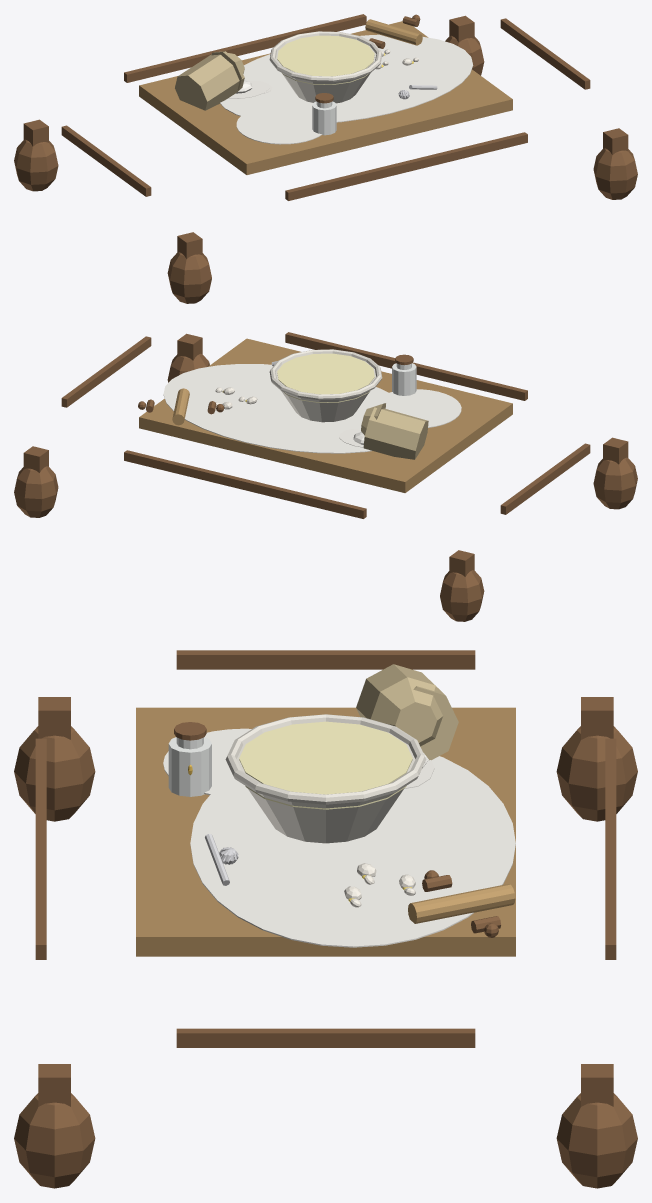
File: gen_1772903136231.glb
3 renders of one model, top to bottom at view 1: azimuth 30°, elevation 25°; view 2: azimuth 150°, elevation 25°; view 3: azimuth 270°, elevation 25°, orthographic. The views are drawn at different scales.
Visible parts, largest first — view 1: TableTop, FlourDust1, Batter, Apron_1, FlourDust2, FlourSack, Apron_0, LegBulge_2, LegBulge_3, LegBulge_1, BowlRim, Bowl (+9 smaller); view 2: TableTop, FlourDust1, Batter, Apron_0, FlourSack, Apron_1, LegBulge_0, LegBulge_1, LegBulge_3, FlourDust2, Bowl, BowlRim (+9 smaller); view 3: FlourDust1, TableTop, Batter, Apron_2, Apron_3, LegBulge_0, LegBulge_2, LegBulge_1, LegBulge_3, Bowl, BowlRim, FlourSackTop (+10 smaller).
Boxes of the visible parts, <box> form: TableTop: <box>139,21,512,174</box>; FlourDust1: <box>220,34,473,123</box>; Batter: <box>277,35,374,84</box>; Apron_1: <box>285,132,527,200</box>; FlourDust2: <box>236,105,322,144</box>; FlourSack: <box>175,51,244,110</box>; Apron_0: <box>124,14,366,82</box>; LegBulge_2: <box>593,148,637,199</box>; LegBulge_3: <box>167,252,211,303</box>; LegBulge_1: <box>14,139,58,191</box>; BowlRim: <box>269,31,382,82</box>; Bowl: <box>276,39,376,103</box>; TableTop: <box>139,338,512,492</box>; FlourDust1: <box>163,364,417,453</box>; Batter: <box>277,353,374,402</box>; Apron_0: <box>124,450,366,518</box>; FlourSack: <box>363,407,428,459</box>; Apron_1: <box>285,332,527,400</box>; LegBulge_0: <box>14,466,58,517</box>; LegBulge_1: <box>440,570,484,621</box>; LegBulge_3: <box>593,457,637,509</box>; FlourDust2: <box>372,389,461,427</box>; Bowl: <box>275,357,375,422</box>; BowlRim: <box>269,349,382,400</box>; FlourDust1: <box>190,756,515,947</box>; TableTop: <box>136,707,515,956</box>; Batter: <box>239,721,412,809</box>; Apron_2: <box>176,1028,475,1047</box>; Apron_3: <box>176,650,475,669</box>; LegBulge_0: <box>556,1093,637,1188</box>; LegBulge_2: <box>14,1093,95,1188</box>; LegBulge_1: <box>556,726,637,821</box>; LegBulge_3: <box>14,726,95,821</box>; Bowl: <box>236,725,415,843</box>; BowlRim: <box>225,714,426,804</box>; FlourSackTop: <box>371,677,442,746</box>.
Bounding box in the file's own units: 3.5 × 1.04 × 2.3.
